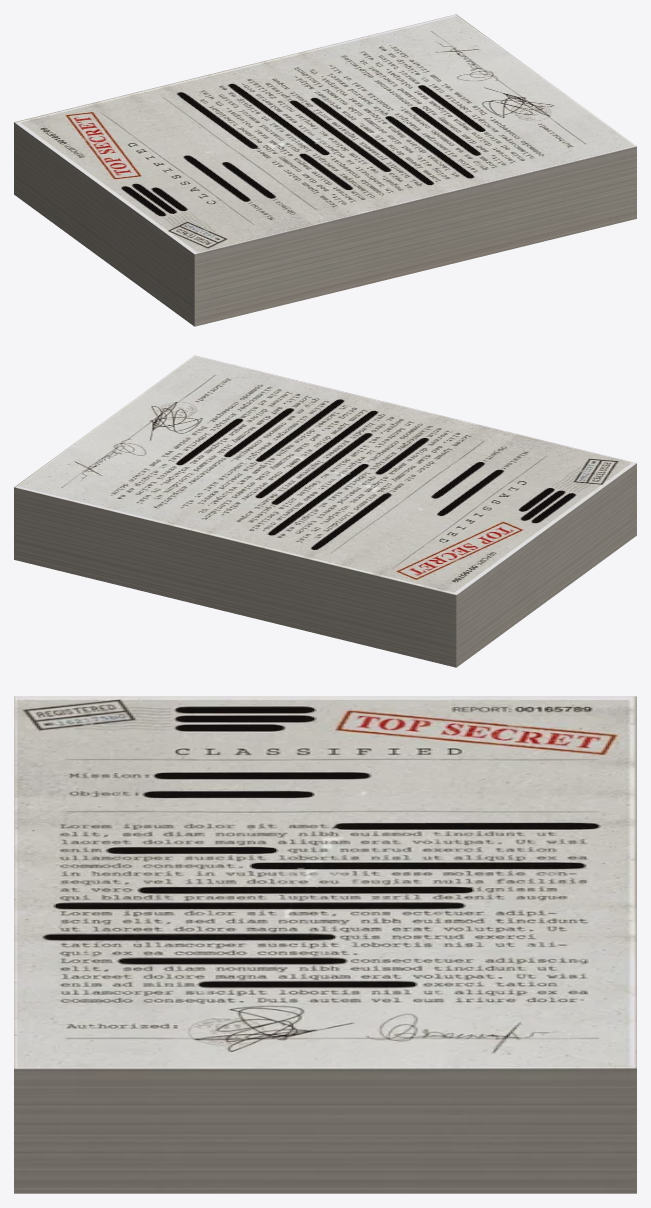
The model's file is paper_debris_d.glb.
3 renders of one model, top to bottom at view 1: azimuth 30°, elevation 25°; view 2: azimuth 150°, elevation 25°; view 3: azimuth 270°, elevation 25°, orthographic. The views are drawn at different scales.
Parts seen in each view (by area): view 1: defaultMaterial; view 2: defaultMaterial; view 3: defaultMaterial.
Boxes of the visible parts, <box> form: defaultMaterial: <box>14,14,636,326</box>; defaultMaterial: <box>14,355,636,667</box>; defaultMaterial: <box>14,696,636,1193</box>.
Bounding box in the file's own units: 0.297 × 0.0464 × 0.21.
Materials: 1 (1 with a texture image).
